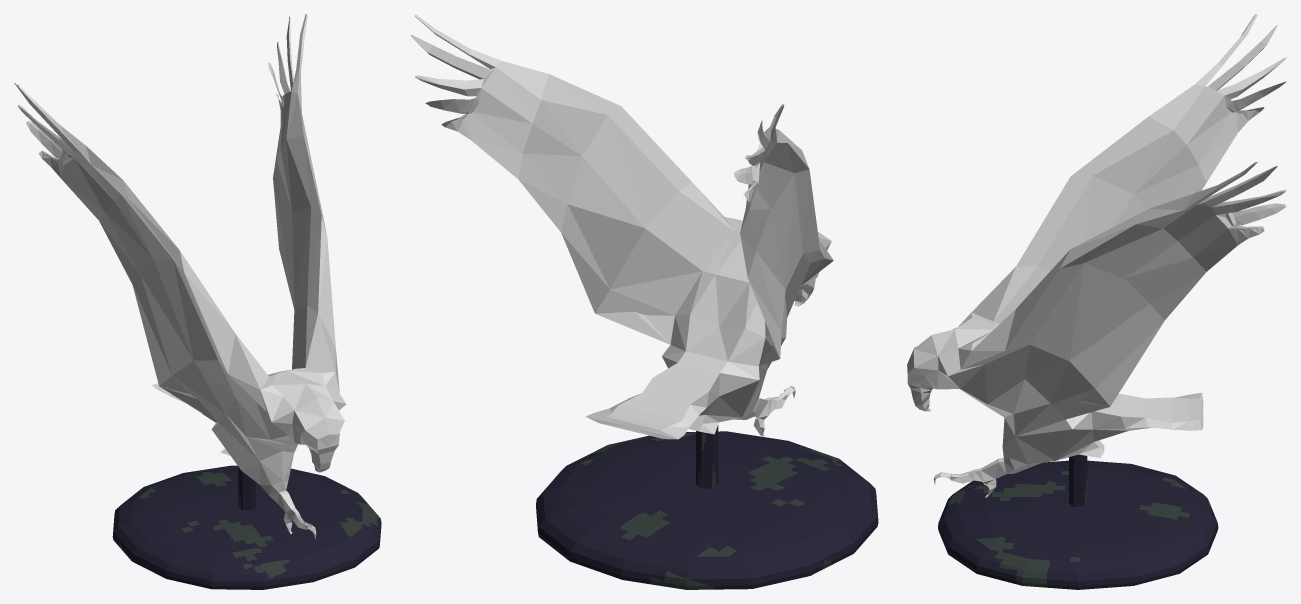
Rendered from UrEagle.obj.
3 renders of one model, left to right at view 1: azimuth 30°, elevation 25°; view 2: azimuth 150°, elevation 25°; view 3: azimuth 270°, elevation 25°, orthographic. The views are drawn at different scales.
Parts seen in each view (by area): view 1: Eagle_Statue, Base_of_Statue, Base_Stem_of_Statue; view 2: Eagle_Statue, Base_of_Statue, Base_Stem_of_Statue; view 3: Eagle_Statue, Base_of_Statue, Base_Stem_of_Statue.
Boxes of the visible parts, bbox=[...] form: Eagle_Statue: bbox=[14, 14, 346, 538]; Base_of_Statue: bbox=[112, 465, 381, 589]; Base_Stem_of_Statue: bbox=[238, 467, 255, 510]; Eagle_Statue: bbox=[410, 14, 833, 439]; Base_of_Statue: bbox=[536, 431, 878, 589]; Base_Stem_of_Statue: bbox=[696, 425, 718, 488]; Eagle_Statue: bbox=[907, 14, 1286, 497]; Base_of_Statue: bbox=[938, 460, 1218, 589]; Base_Stem_of_Statue: bbox=[1069, 454, 1087, 506].
Size of the model in its own units: 1.14 by 1.61 by 1.24.
